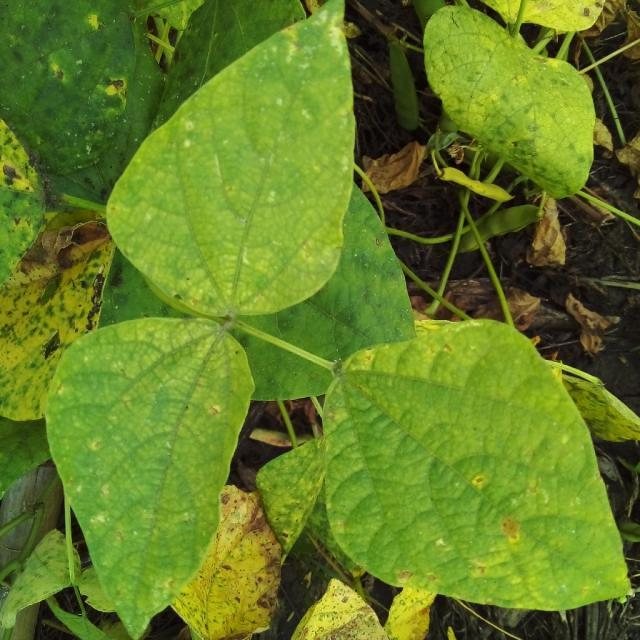hawar: (424, 432, 554, 594), (36, 396, 150, 544)
mozaik: (154, 123, 319, 306)
